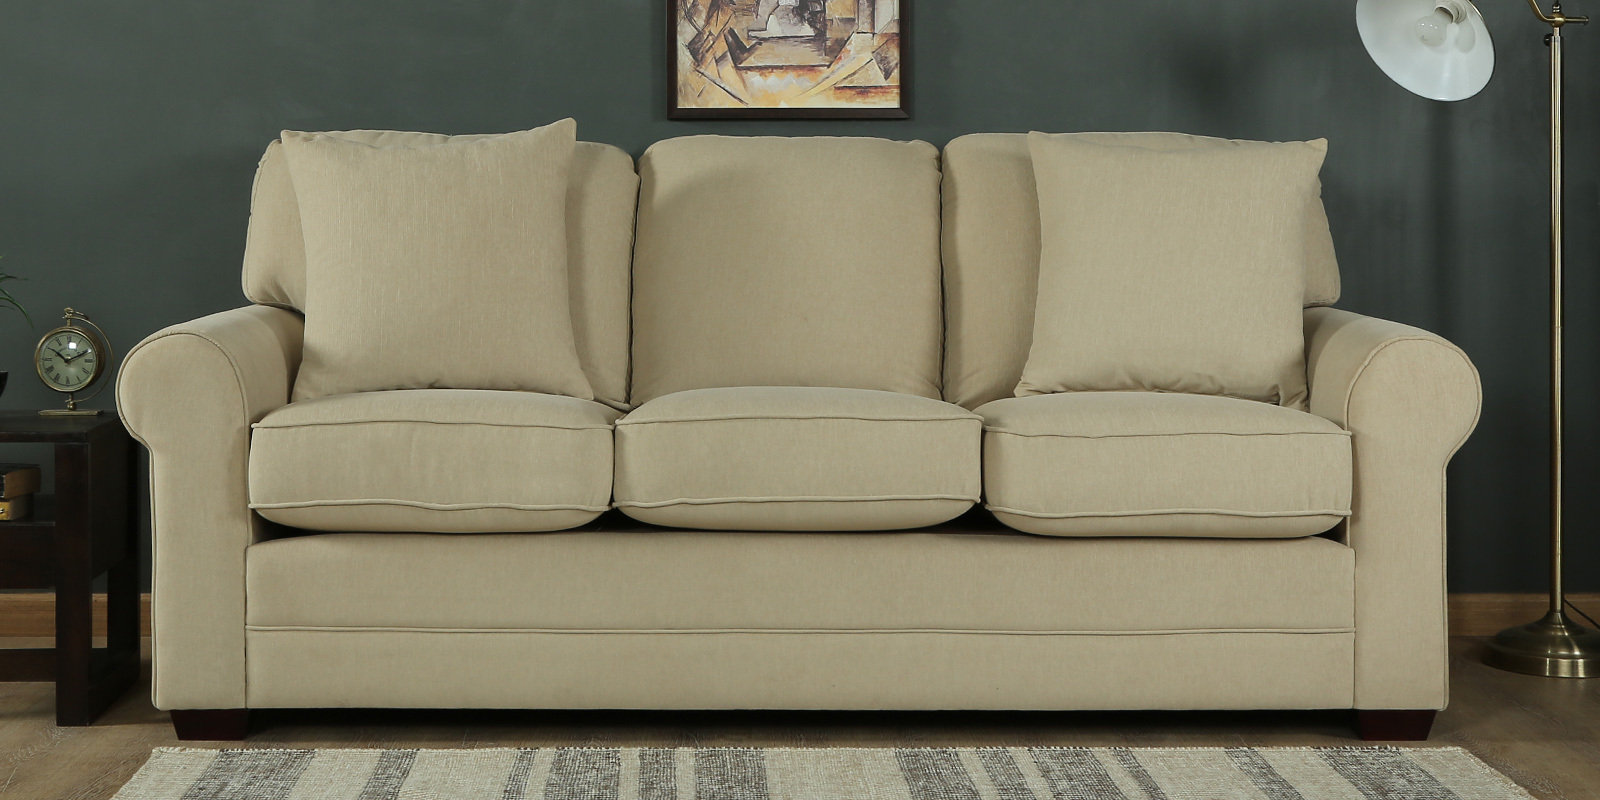Madeira Three Seater Sofa in Beige Colour by CasaCraft: (116, 116, 1485, 741)
